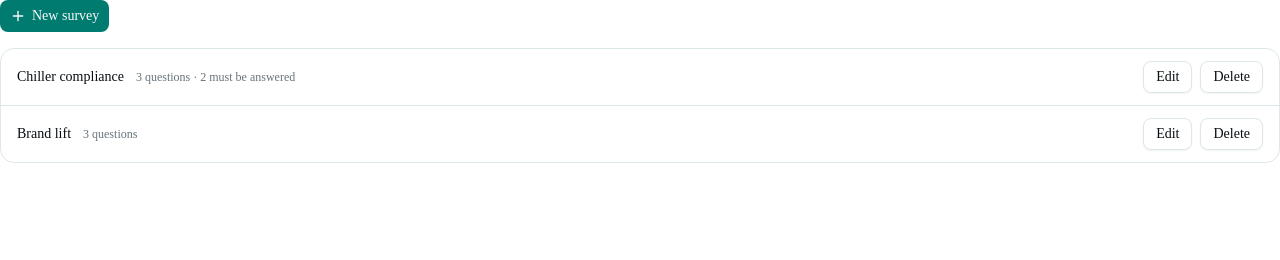
<SurveyBrowser> › lets the confirmation be backed out of
Click the button with aria-label "Delete Brand lift" at (1232, 134), box x1=1200 y1=118 x2=1263 y2=150
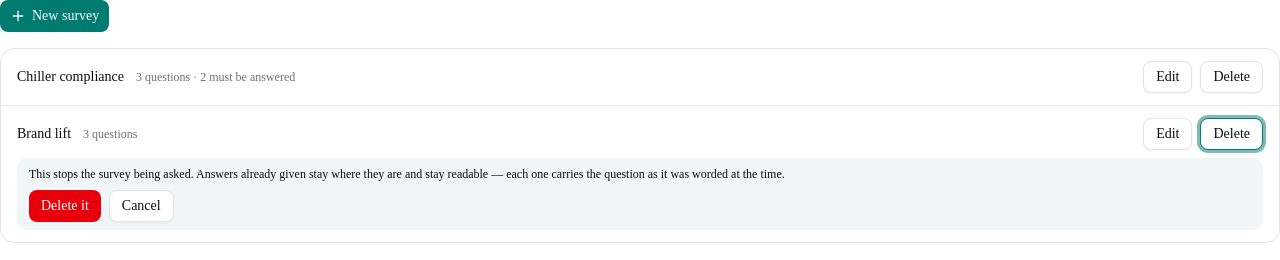
Click the button "Cancel" at (141, 206), box x1=109 y1=190 x2=174 y2=222
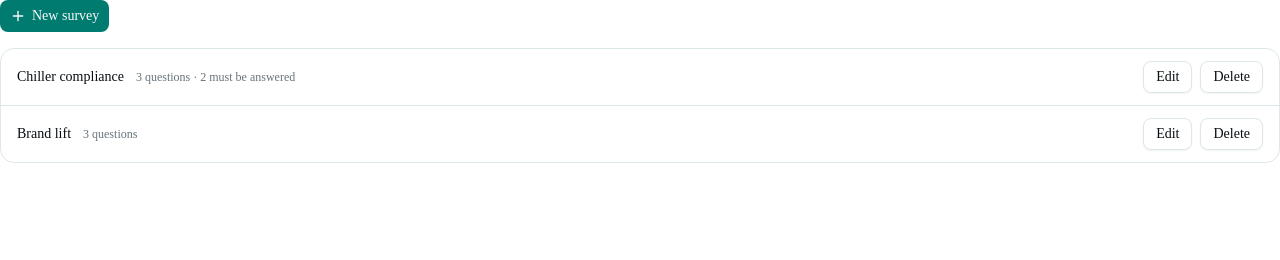
Now the text "Answers already given" is gone
